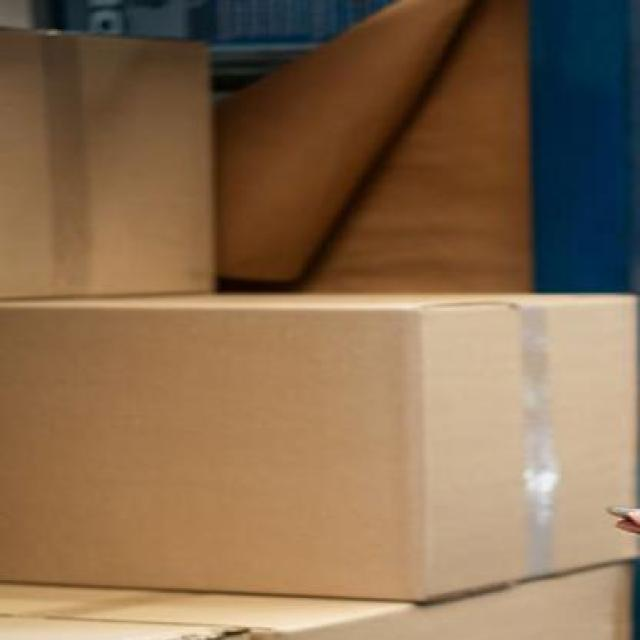box: (0, 298, 638, 587), (0, 22, 215, 296), (0, 591, 638, 639)
